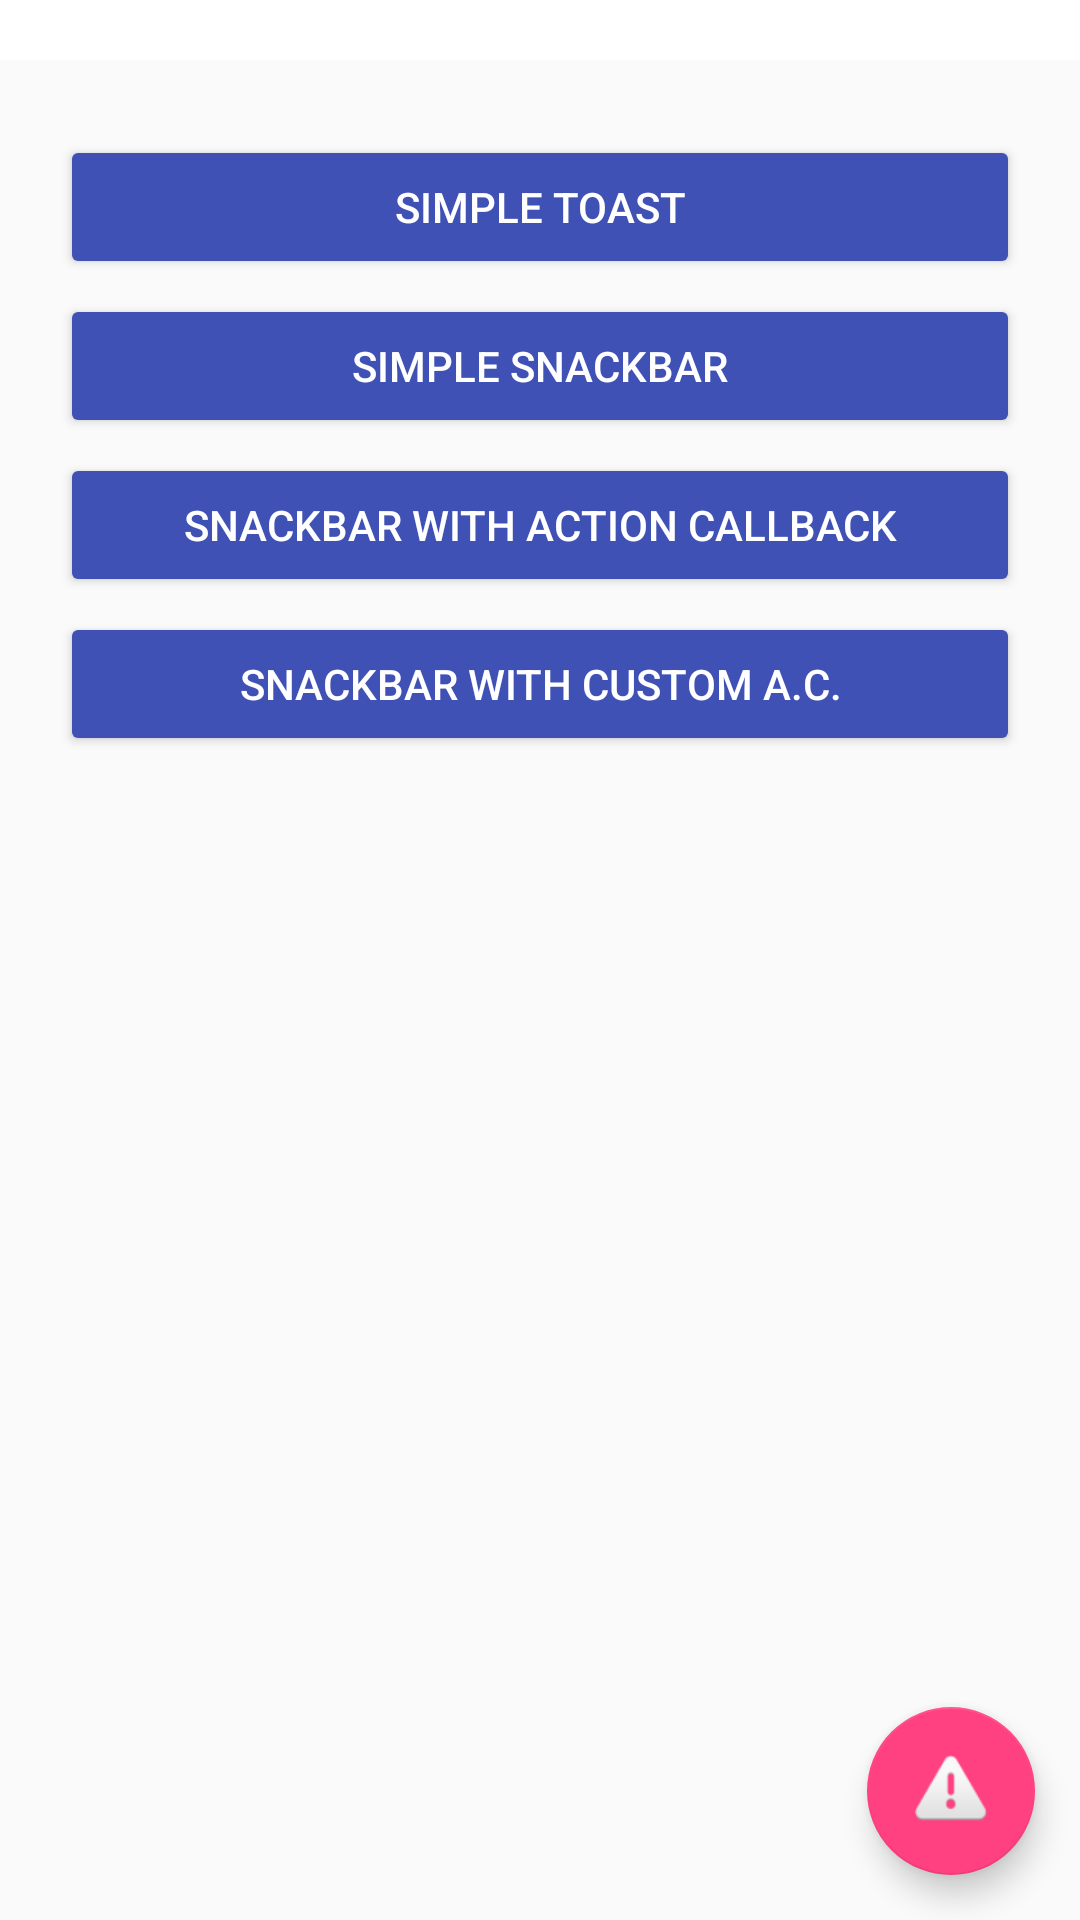

Where icons sit on this 1080×1920 app screen, as (x1, y1, x2, y2):
alert: (867, 1707, 1035, 1875)
